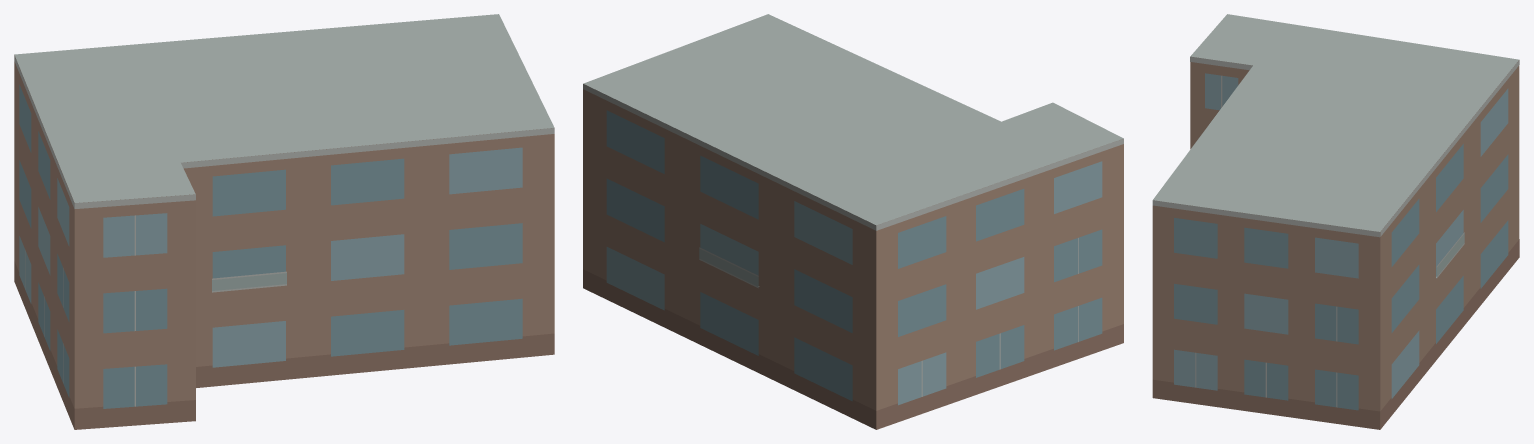
File: survey-upis-32524994.glb
3 renders of one model, left to right at view 1: azimuth 30°, elevation 25°; view 2: azimuth 150°, elevation 25°; view 3: azimuth 270°, elevation 25°, orthographic. The views are drawn at different scales.
Parts seen in each view (by area): view 1: survey-upis-32524994.tmp; view 2: survey-upis-32524994.tmp; view 3: survey-upis-32524994.tmp.
Boxes of the visible parts, left/top/right/bottom form: survey-upis-32524994.tmp: left=14, top=14, right=554, bottom=429; survey-upis-32524994.tmp: left=583, top=14, right=1123, bottom=429; survey-upis-32524994.tmp: left=1152, top=14, right=1519, bottom=429.
Size of the model in its own units: 21.51 by 9.1 by 15.3.
